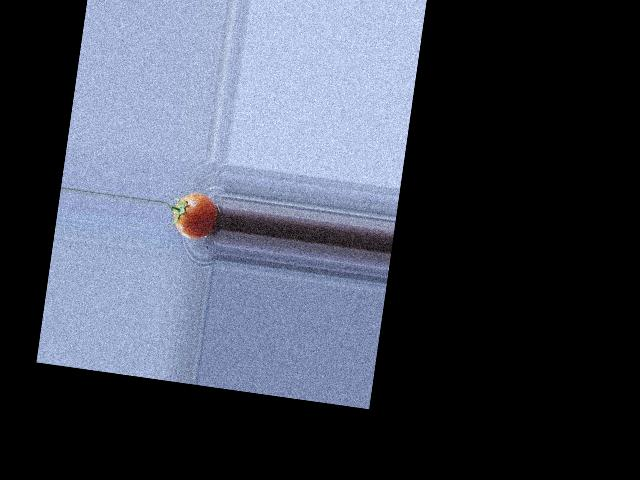tomato: (171, 190, 221, 241)
